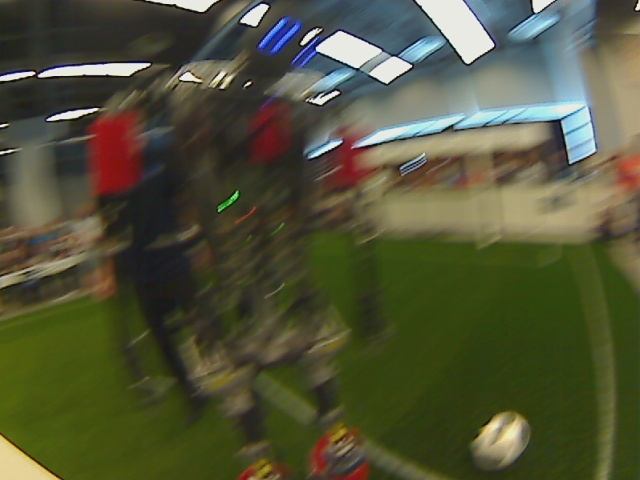ball: (469, 411, 533, 475)
